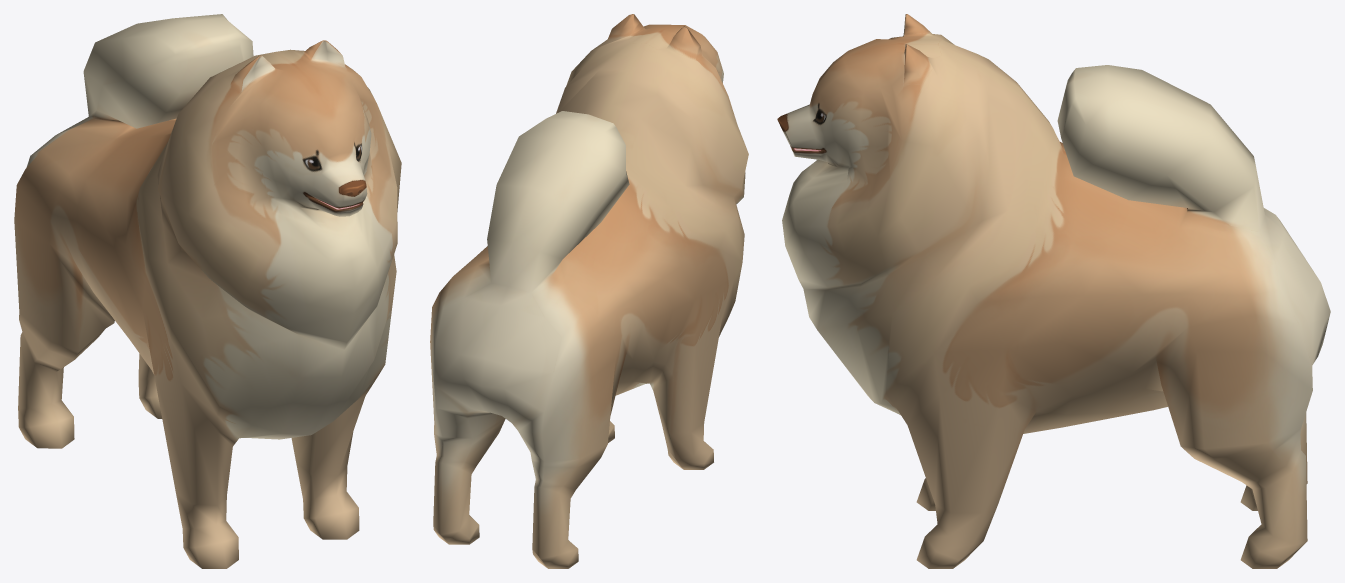
The model's file is Tiffany_Resized.fbx.
3 views of the same model, side by side, from view 1: azimuth 30°, elevation 25°; view 2: azimuth 150°, elevation 25°; view 3: azimuth 270°, elevation 25° (orthographic). The views are drawn at different scales.
Parts seen in each view (by area): view 1: pom_model; view 2: pom_model; view 3: pom_model.
Boxes of the visible parts, x1,y1,x2,y2 form: pom_model: (14, 14, 401, 568); pom_model: (430, 14, 748, 568); pom_model: (777, 14, 1330, 568).
Bounding box in the file's own units: 79.8 × 170 × 170.
